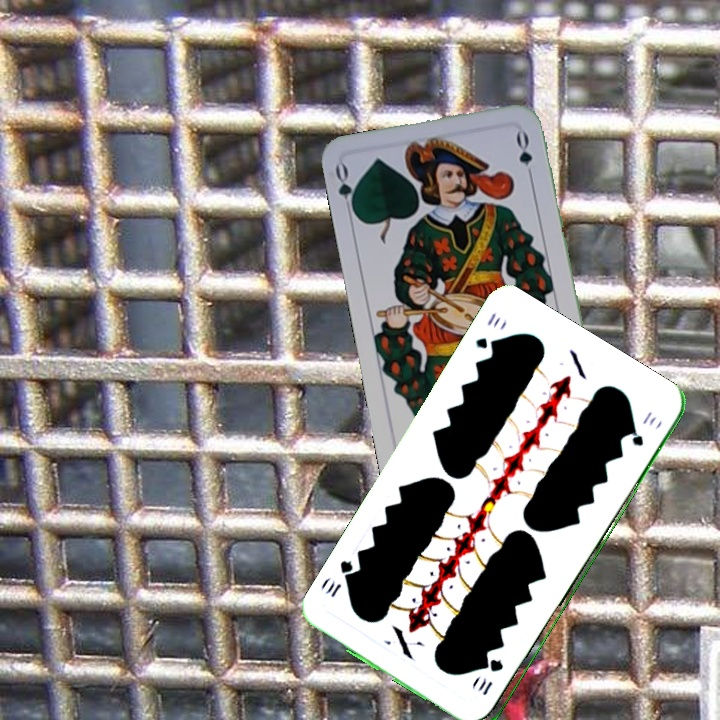G10: (471, 309, 502, 354), (474, 655, 506, 698)
GO: (331, 160, 360, 220)
